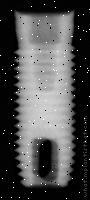Zimmer: (15, 10, 77, 190)
